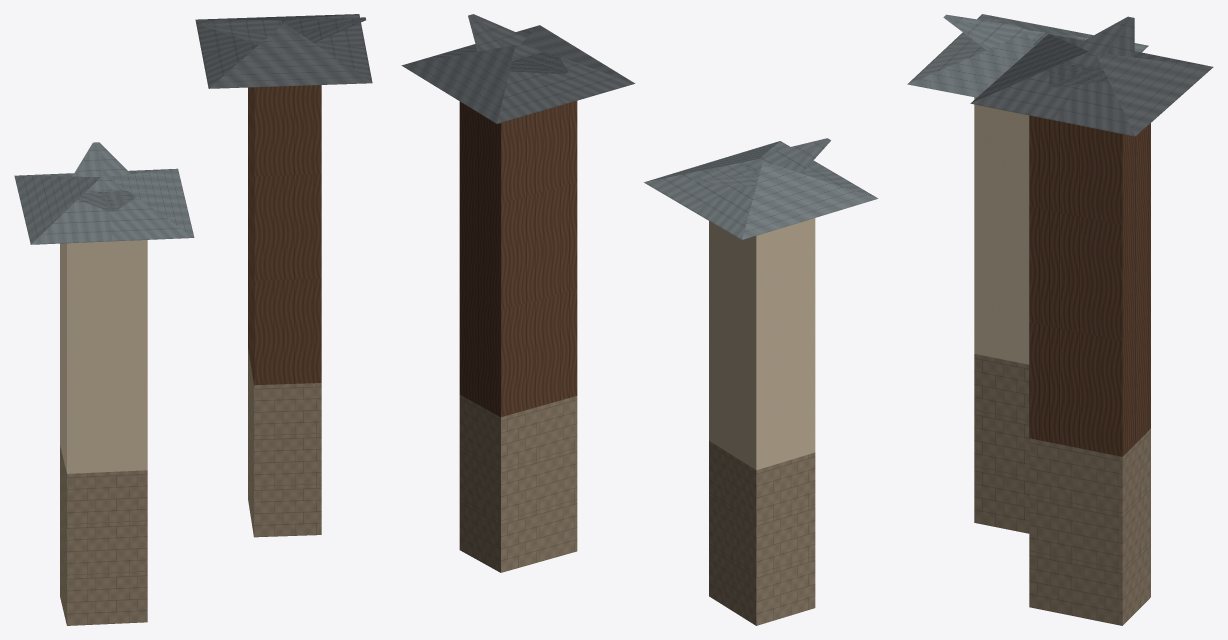
File: bld_c-3_0_544.gltf
The picture shows the model from 3 angles, left to right: view 1: azimuth 30°, elevation 25°; view 2: azimuth 150°, elevation 25°; view 3: azimuth 270°, elevation 25°; orthographic projection. The views are drawn at different scales.
Parts seen in each view (by area): view 1: bld_c-3_0_544; view 2: bld_c-3_0_544; view 3: bld_c-3_0_544.
Boxes of the visible parts, <box> form: bld_c-3_0_544: <box>14,14,372,625</box>; bld_c-3_0_544: <box>401,14,877,625</box>; bld_c-3_0_544: <box>907,14,1213,625</box>.
Bounding box in the file's own units: 13.95 × 17.3 × 8.39.
5 materials, 5 textured.
